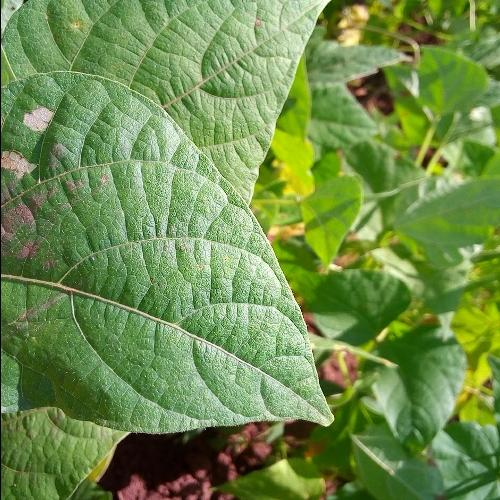hawar: (0, 94, 96, 350), (51, 7, 93, 41)
